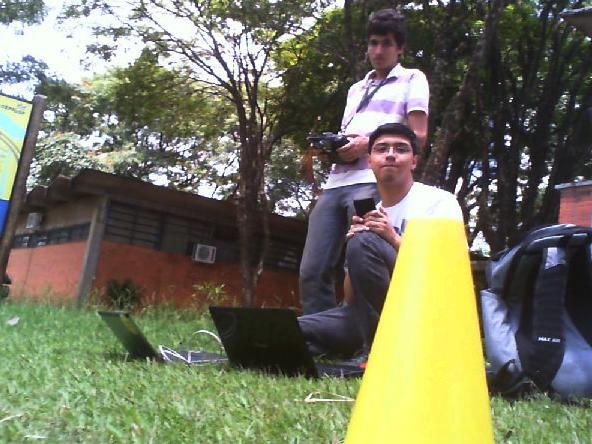0 cone: (342, 219, 494, 444)
